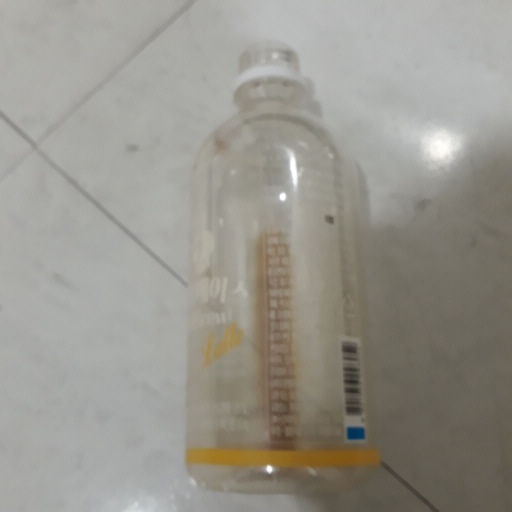Plastic_0: (178, 43, 381, 501)
